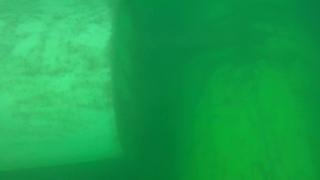pipe: (1, 1, 136, 170), (183, 1, 308, 179)
